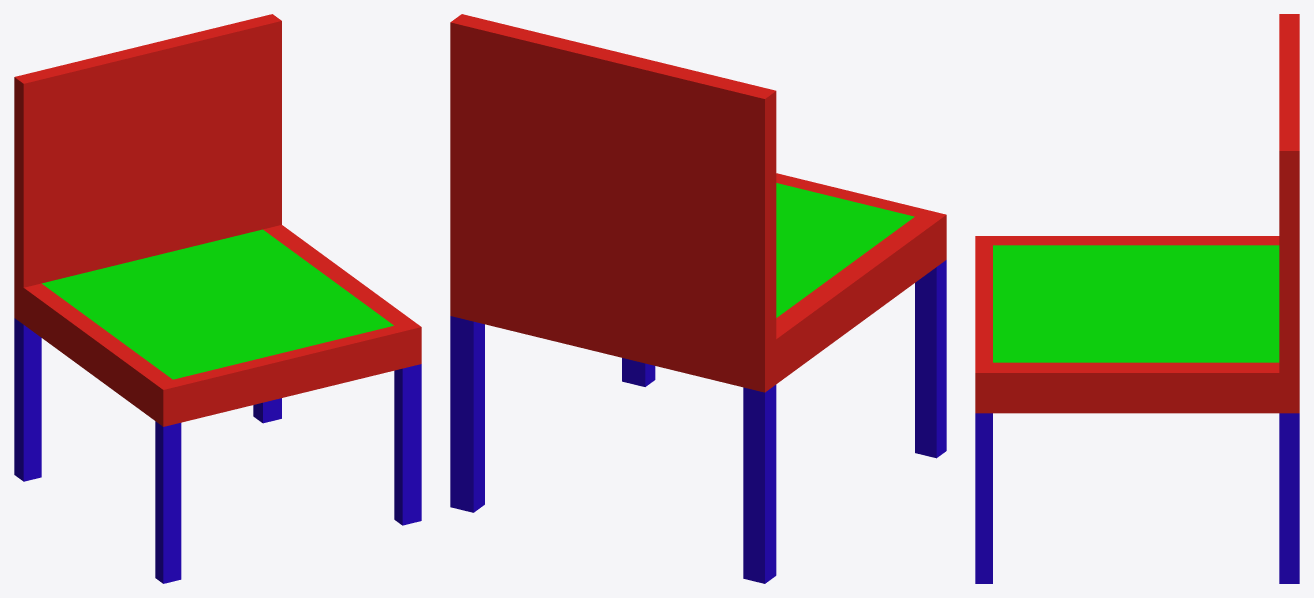
Rendered from chair.fbx.
3 views of the same model, side by side, from view 1: azimuth 30°, elevation 25°; view 2: azimuth 150°, elevation 25°; view 3: azimuth 270°, elevation 25° (orthographic). The views are drawn at different scales.
Parts seen in each view (by area): view 1: Cube; view 2: Cube; view 3: Cube.
Part boxes in pixels (x1,y1,x2,y2): Cube: (14, 14, 421, 583); Cube: (450, 14, 946, 583); Cube: (975, 14, 1299, 583).
Size of the model in its own units: 200 by 295 by 200.
